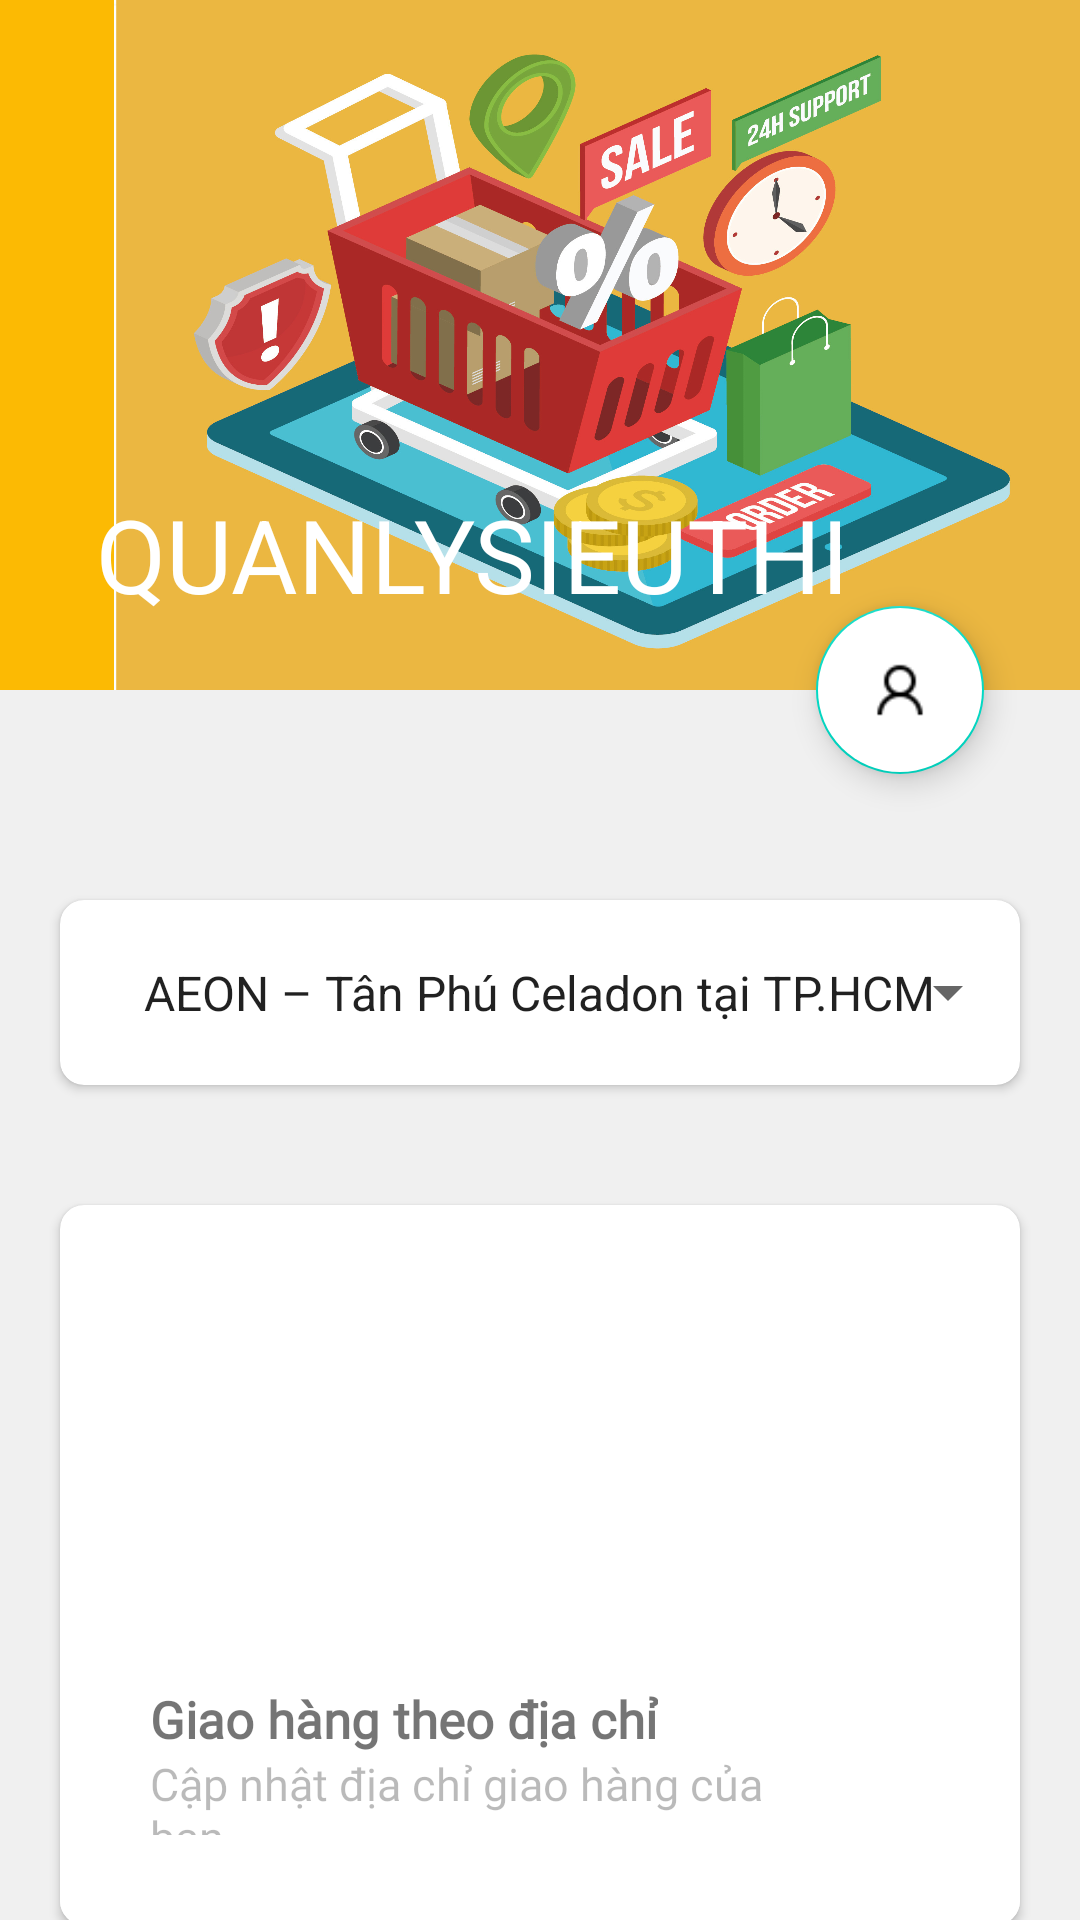

Where to tap for icons on this 1080px x 1920px app screen, as (x=x, y=y):
customer: (x=900, y=690)
